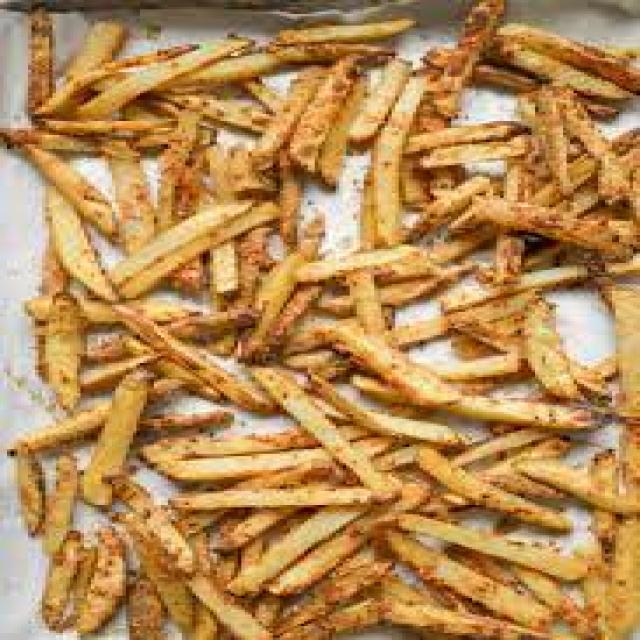감자튀김: (2, 7, 638, 640)
